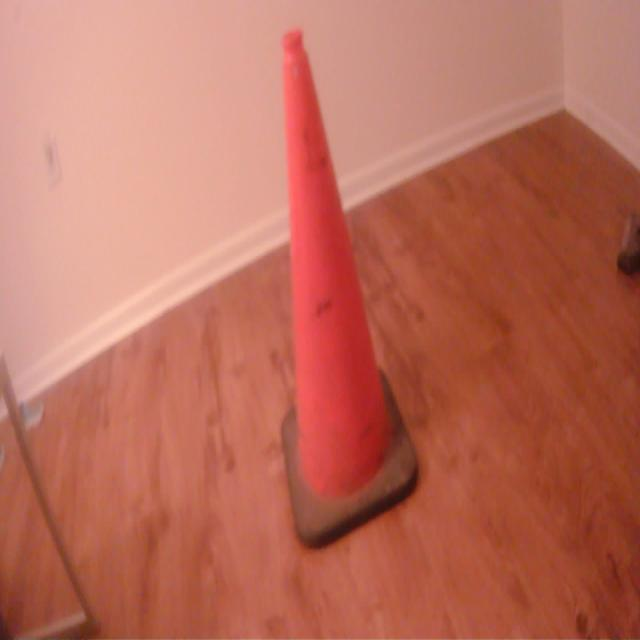traffic cone: (278, 26, 424, 553)
